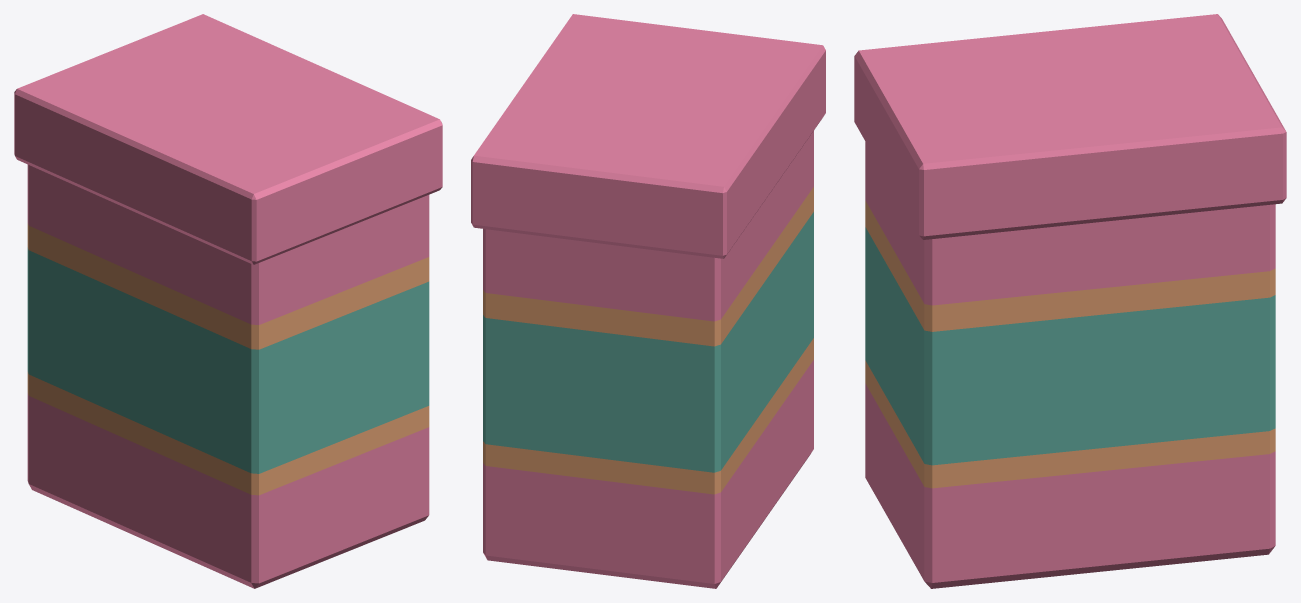
The model's file is detergentbox_washingmachine.fbx.
3 renders of one model, left to right at view 1: azimuth 30°, elevation 25°; view 2: azimuth 150°, elevation 25°; view 3: azimuth 270°, elevation 25°, orthographic. The views are drawn at different scales.
Parts seen in each view (by area): view 1: Cube.003; view 2: Cube.003; view 3: Cube.003.
Part boxes in pixels (bbox=[...]): Cube.003: bbox=[14, 14, 442, 588]; Cube.003: bbox=[471, 14, 825, 588]; Cube.003: bbox=[854, 14, 1286, 588].
Size of the model in its own units: 98.18 by 129 by 118.
